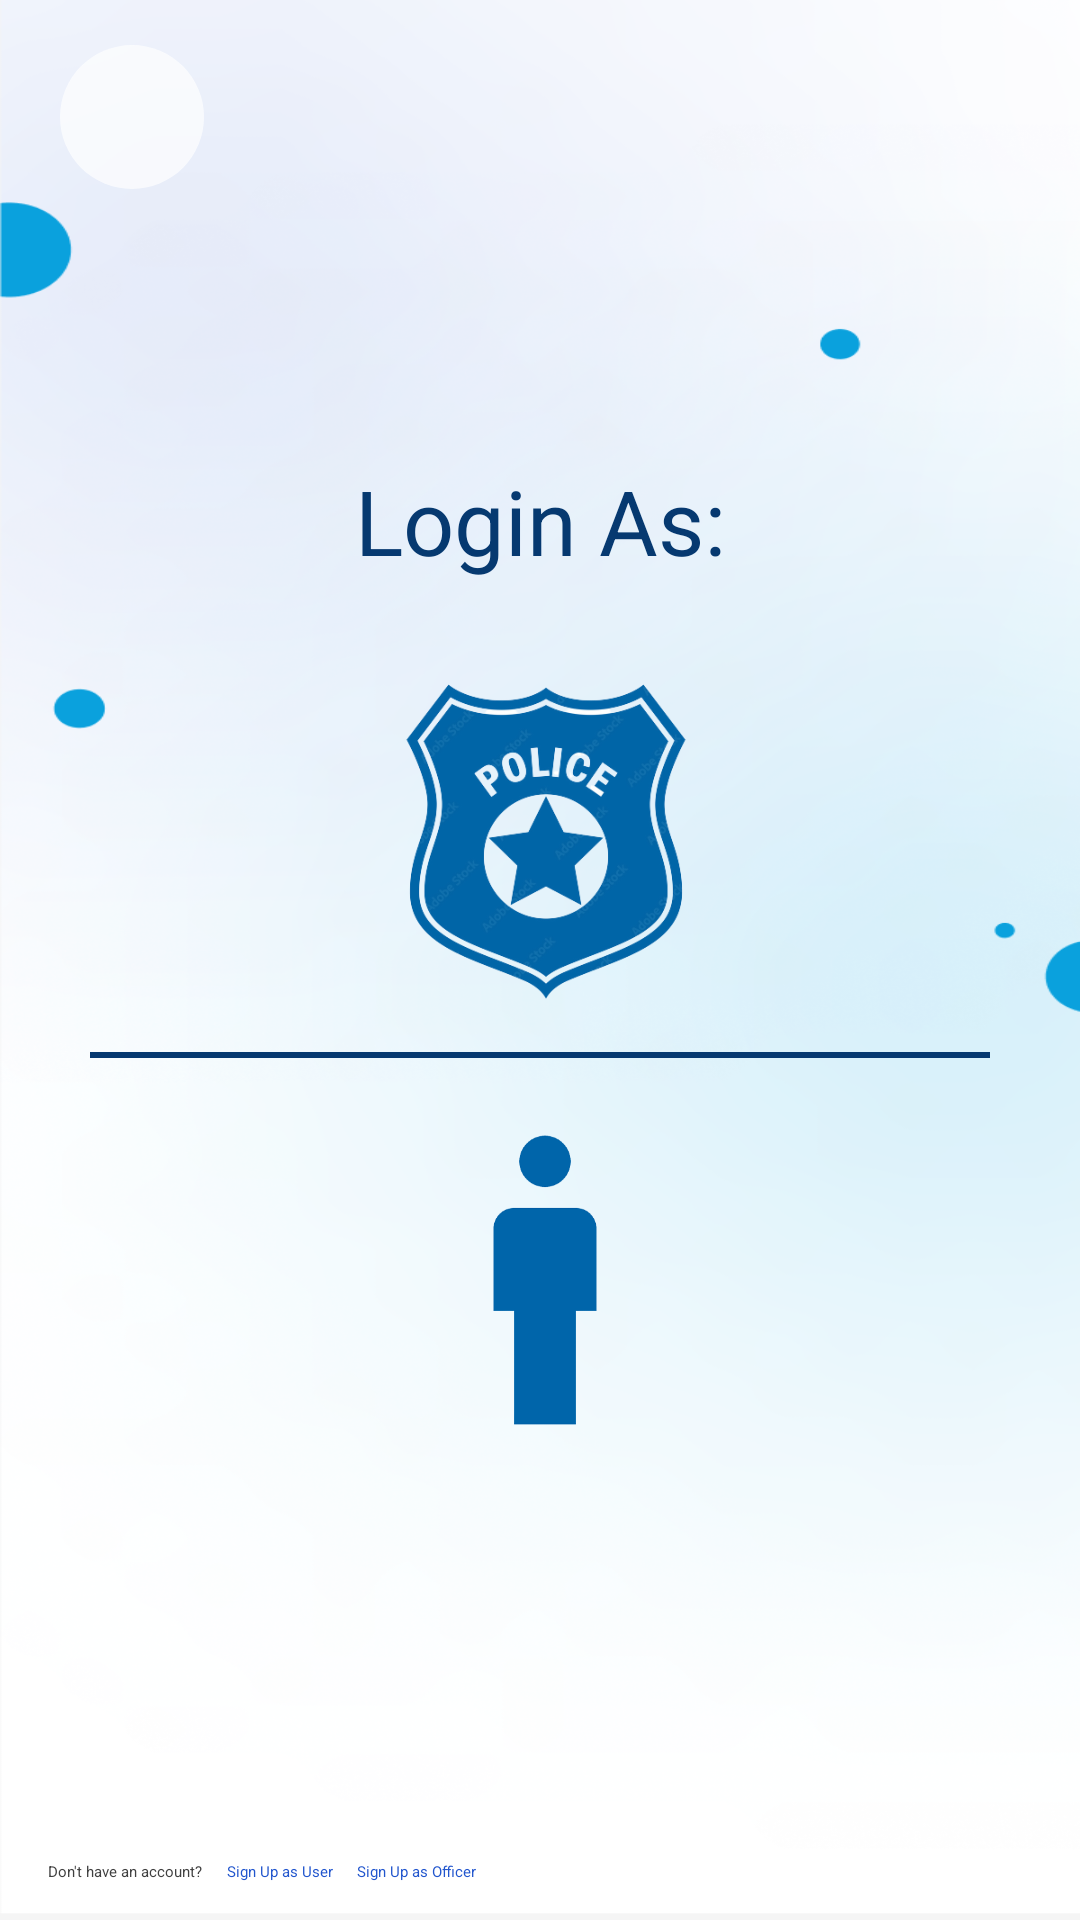

Named icons in this screenshot (1080x1920) and their bounding boxes, (x1, y1, x2, y2):
badge: (406, 684, 686, 999)
male: (493, 1135, 597, 1425)
